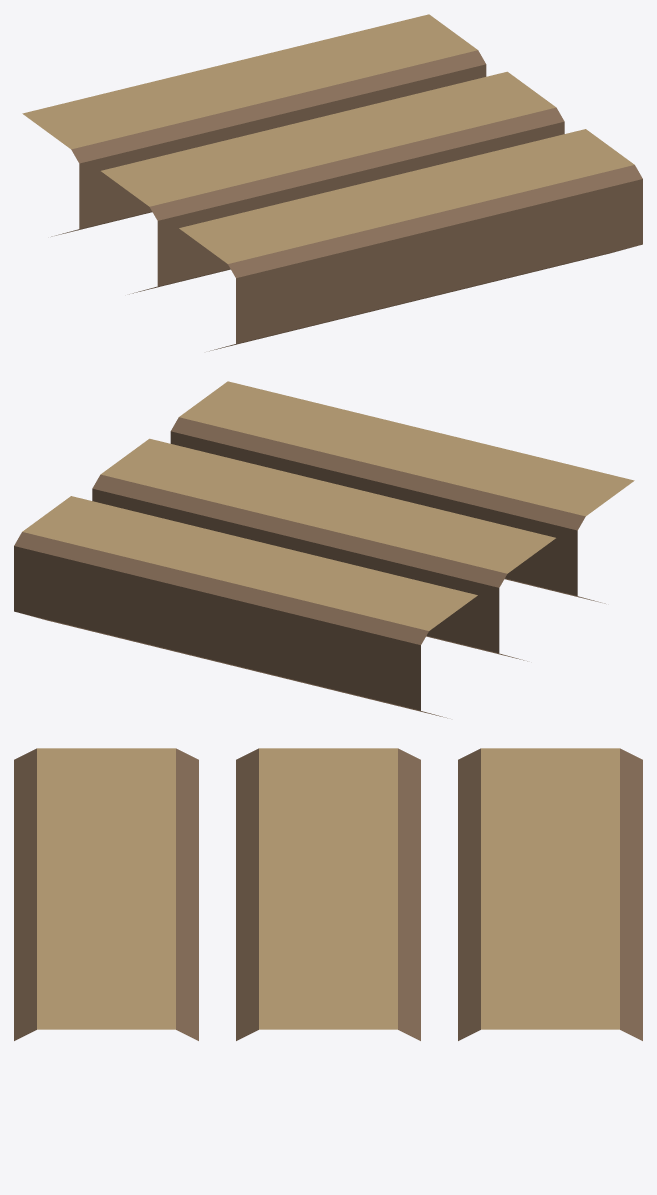
File: Hilly_Prop_Bridge_Log_Middle.glb
3 renders of one model, top to bottom at view 1: azimuth 30°, elevation 25°; view 2: azimuth 150°, elevation 25°; view 3: azimuth 270°, elevation 25°, orthographic. The views are drawn at different scales.
Parts seen in each view (by area): view 1: Hilly_Prop_Bridge_Log_Middle; view 2: Hilly_Prop_Bridge_Log_Middle; view 3: Hilly_Prop_Bridge_Log_Middle.
Boxes of the visible parts, x1,y1,x2,y2 form: Hilly_Prop_Bridge_Log_Middle: [22, 14, 642, 351]; Hilly_Prop_Bridge_Log_Middle: [14, 381, 634, 718]; Hilly_Prop_Bridge_Log_Middle: [14, 748, 642, 1040].
Size of the model in its own units: 1 by 0.25 by 0.9444.
